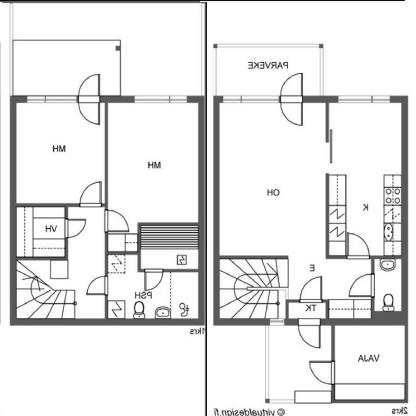door: (77, 73, 103, 126), (280, 74, 305, 127), (297, 319, 322, 349), (346, 233, 370, 260), (348, 274, 375, 297), (308, 360, 335, 383), (79, 181, 102, 207), (104, 210, 129, 232), (300, 276, 322, 300), (86, 276, 108, 294), (63, 220, 86, 237), (145, 270, 162, 293)
window: (28, 95, 77, 104), (338, 96, 388, 104), (224, 96, 278, 103), (135, 96, 187, 103), (271, 319, 284, 326)
zone: (220, 103, 401, 318), (14, 2, 204, 96), (107, 102, 200, 250), (17, 206, 106, 320), (16, 103, 104, 202), (13, 40, 119, 94), (109, 255, 198, 318), (216, 46, 320, 95), (336, 325, 403, 399), (269, 326, 332, 399), (140, 226, 198, 270), (17, 207, 64, 256), (374, 260, 401, 312), (289, 302, 325, 319)
